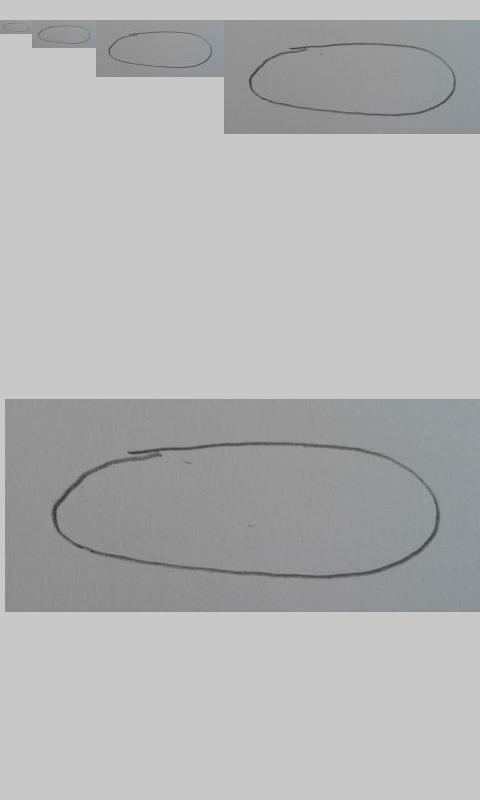chip: (50, 440, 444, 581), (247, 42, 457, 117), (108, 30, 213, 69), (37, 25, 91, 45), (3, 22, 31, 33)
